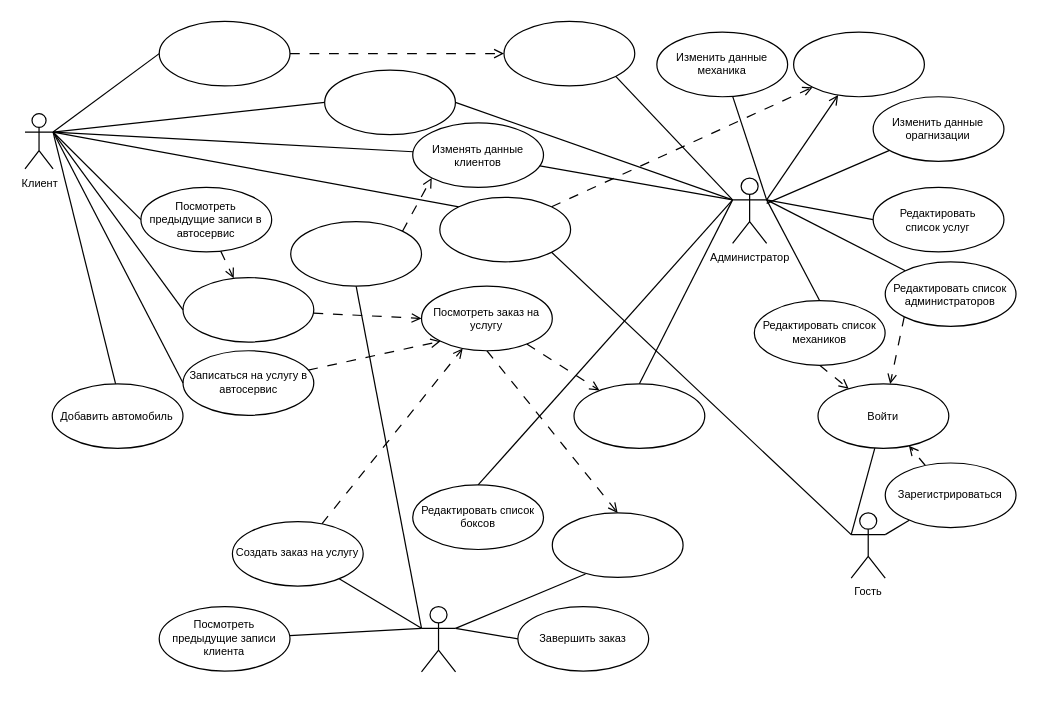
Some shapes in this 1038 by 715 pixel diagram are drawn without their labels. The centre of each missing label's shape, as x and y in pixels:
Внести коррективы в запись: pixel 639 415
Добавить договор хранения: pixel 569 53
Изменять данные по автомобилю: pixel 389 102
Изменять цены услуг: pixel 858 64
Механик: pixel 438 638
Повторить педыдущую запись в автосервис: pixel 248 309
Посмотреть договора хранения: pixel 224 53
Посмотреть информацию о клиенте: pixel 356 253
Посмотреть список услуг: pixel 505 229
Прокомментировать заказ: pixel 617 544
